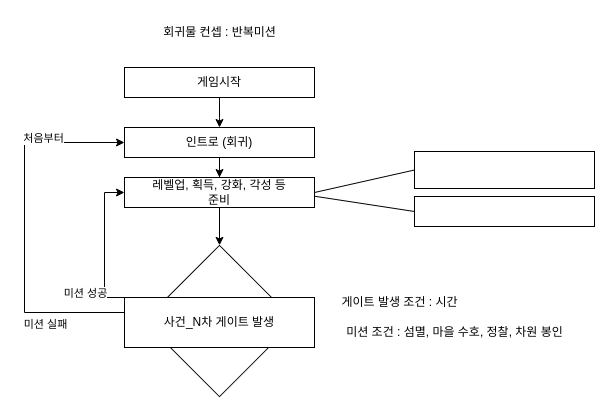
Image size: 612x414. Some labels were removed from this diagram. Each missing label, with the centre of its shape:
"NPC 구출, 빌런 제압 이벤트 보상" belongs at point (504, 169).
"사냥터, 던전, 구매" belongs at point (504, 211).
